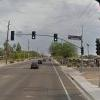Traffic light: (6, 25, 64, 45)
